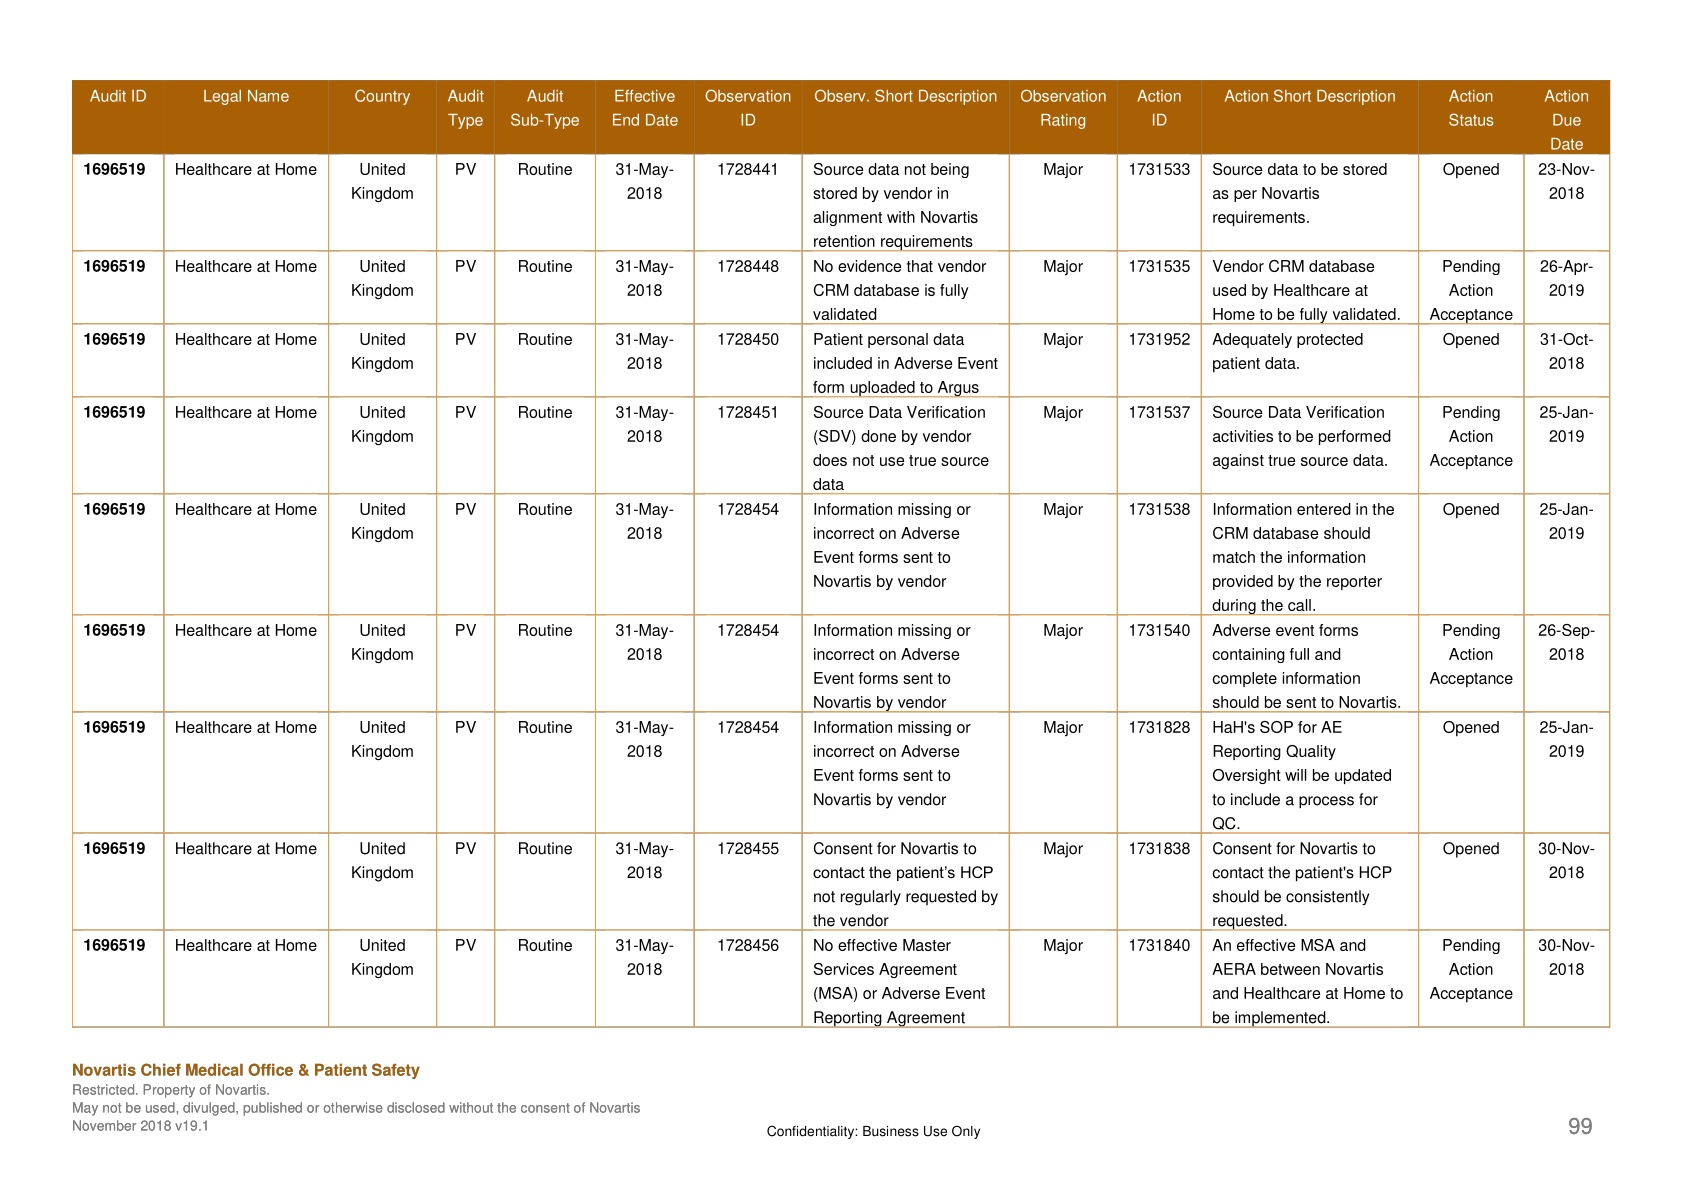full_lined: (73, 81, 1609, 1026)
